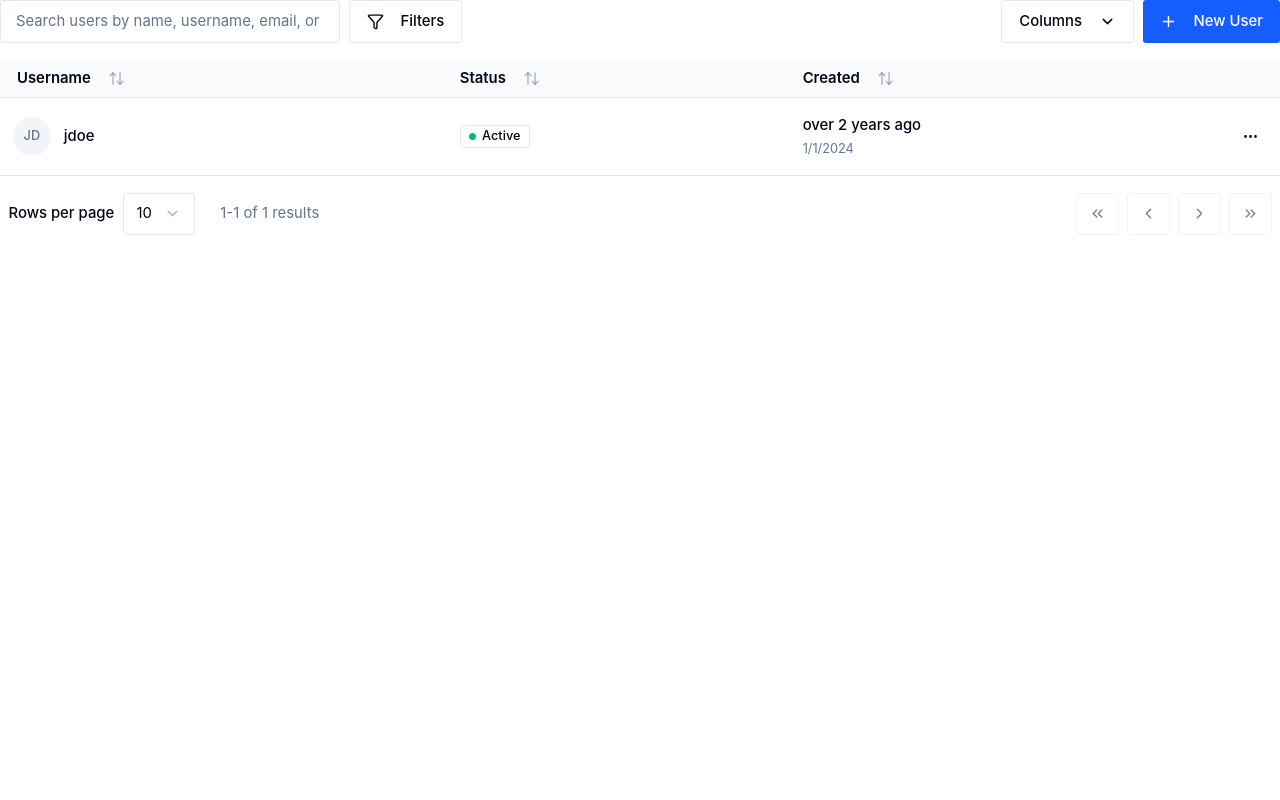
Test: UserListing › Clear all removes the active filters
Click the button "Filters".
click(405, 21)  # box [348, 0, 462, 42]
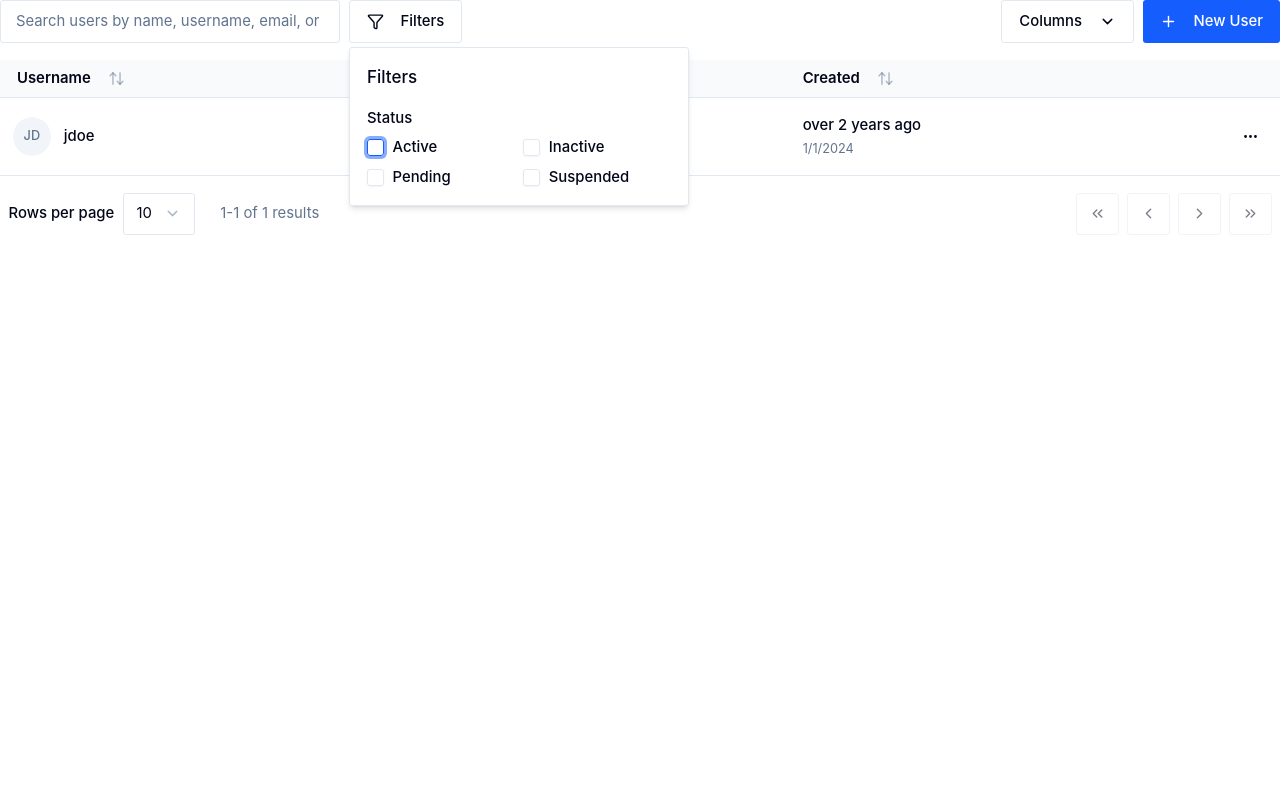
Click the 1st checkbox named "active".
click(376, 148)  # box [367, 139, 384, 156]
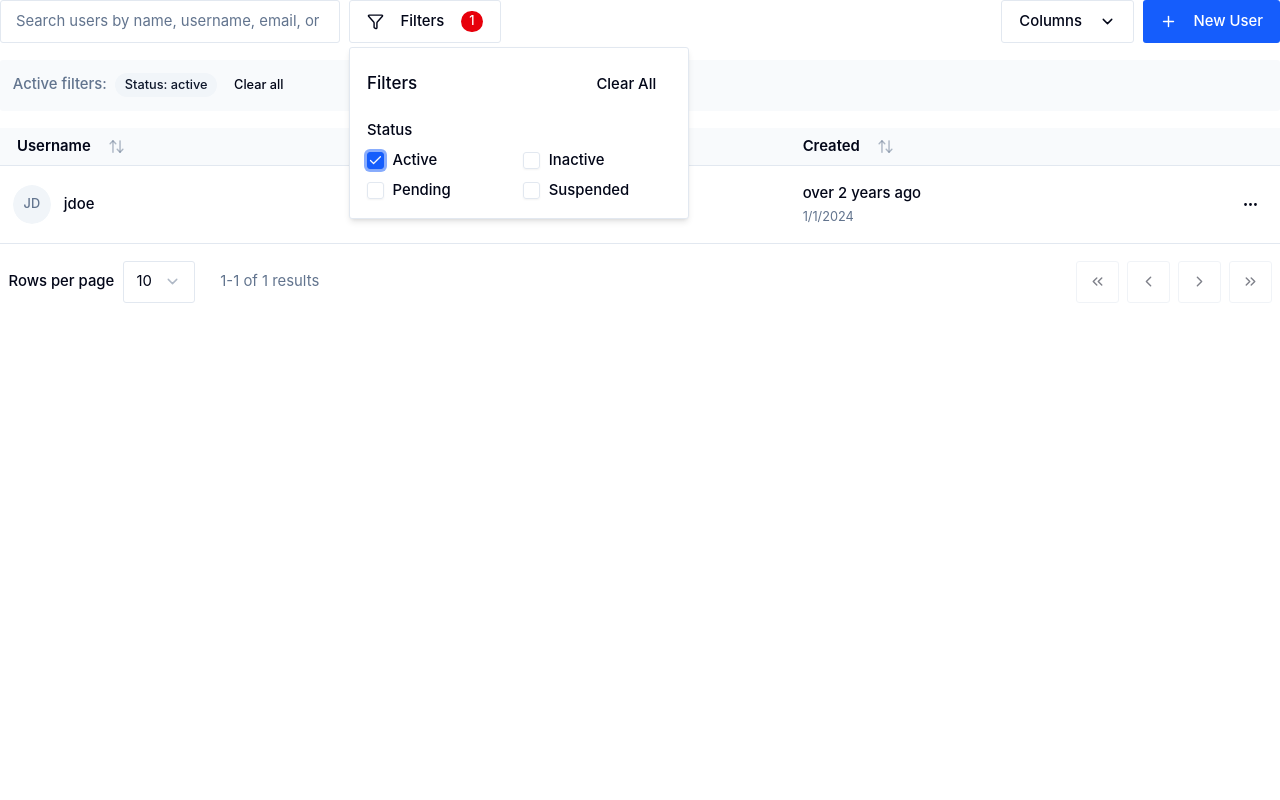
Now the text "Status: active" is shown, box [115, 73, 217, 97]
Click the button "Clear all".
click(259, 85)  # box [226, 72, 292, 98]
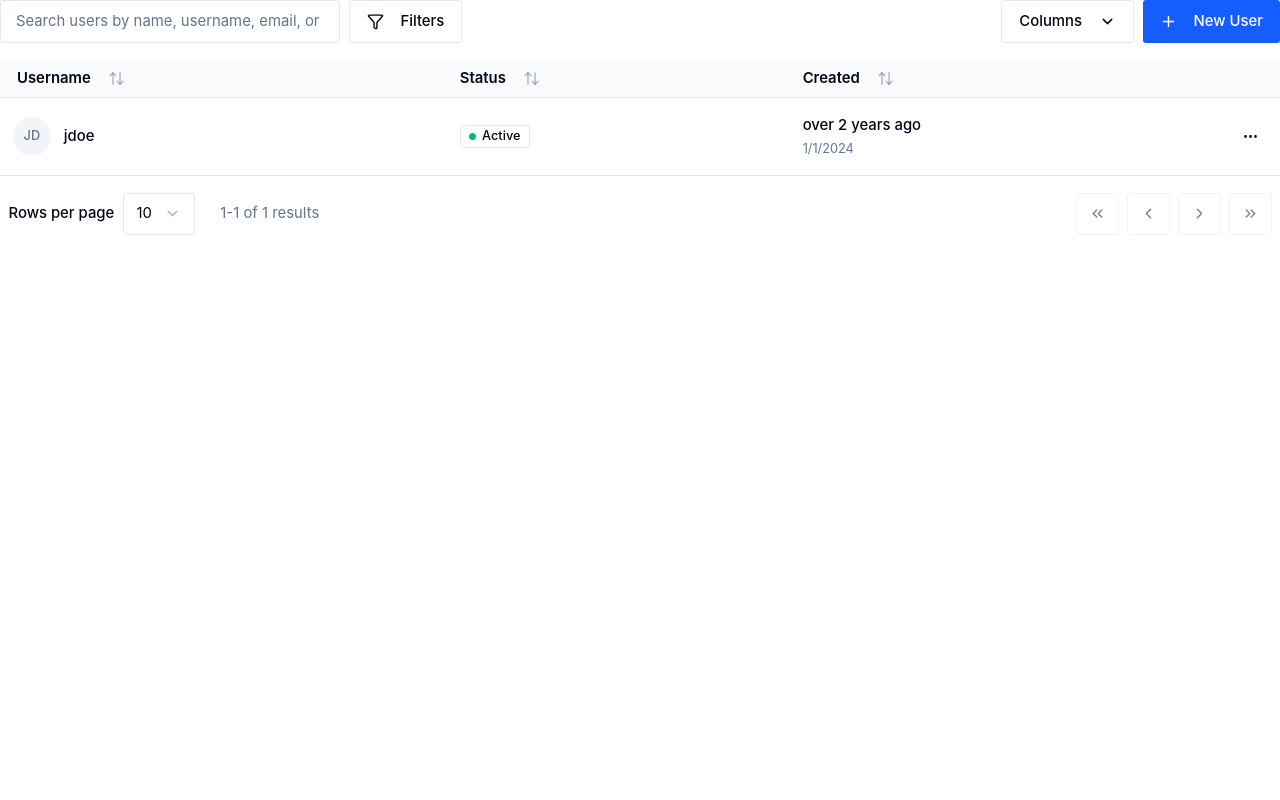
Now the text "Status: active" is gone
